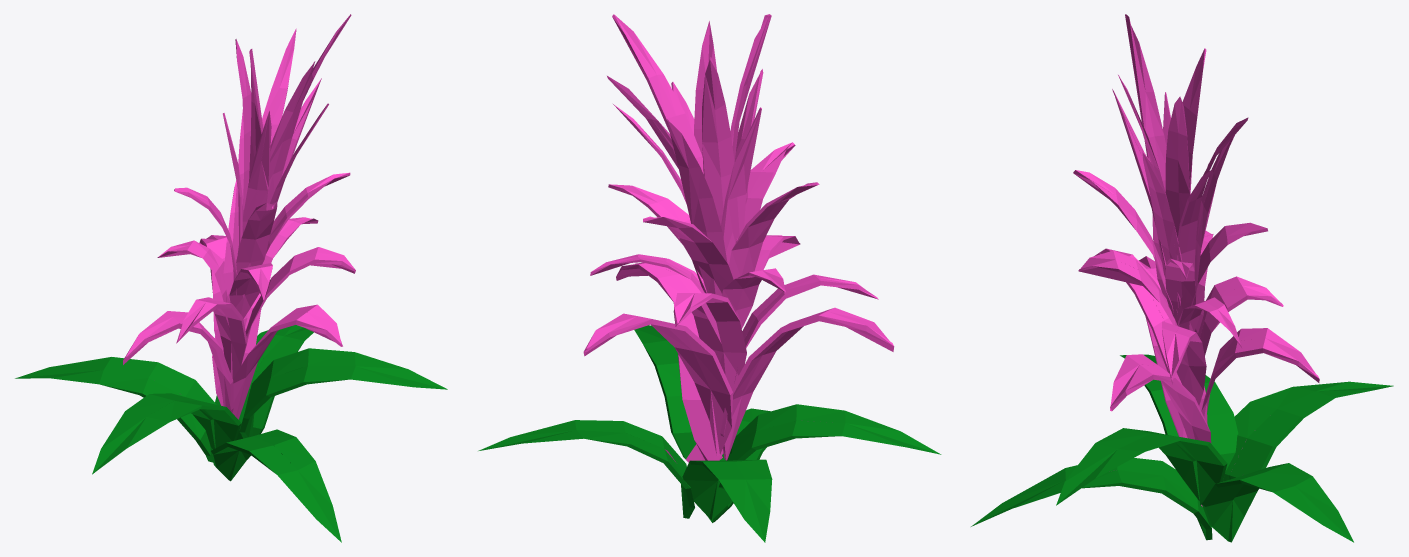
Rendered from ShrubPinkFlower02.fbx.
The picture shows the model from 3 angles, left to right: view 1: azimuth 30°, elevation 25°; view 2: azimuth 150°, elevation 25°; view 3: azimuth 270°, elevation 25°; orthographic projection. The views are drawn at different scales.
Parts seen in each view (by area): view 1: ShrubPinkFlower02_LOD0; view 2: ShrubPinkFlower02_LOD0; view 3: ShrubPinkFlower02_LOD0.
Part boxes in pixels (x1=…): ShrubPinkFlower02_LOD0: x1=15, y1=14, x2=447, y2=542; ShrubPinkFlower02_LOD0: x1=478, y1=14, x2=941, y2=542; ShrubPinkFlower02_LOD0: x1=971, y1=14, x2=1393, y2=542.
Size of what is drawn, in the model's own units: 93.07 by 121 by 90.27.
